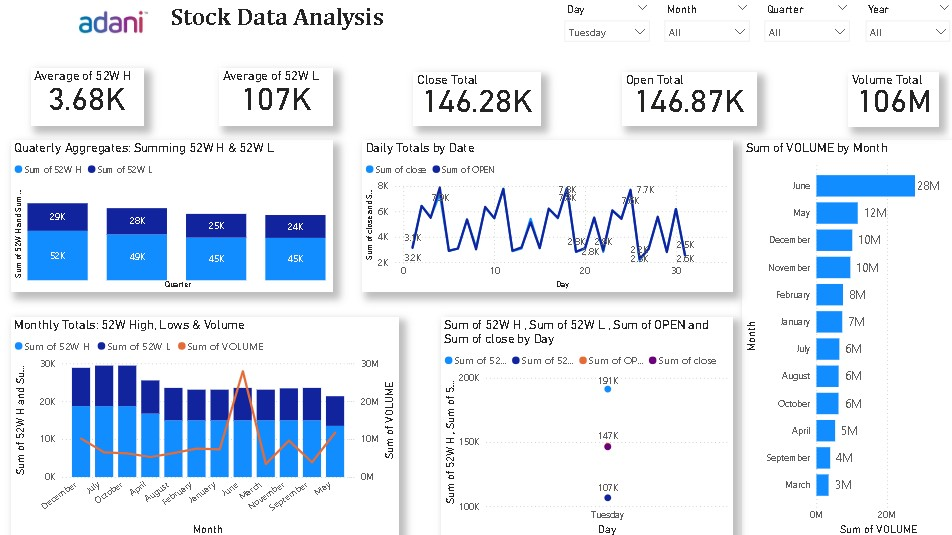

What the dashboard file says about the page in this screenshot:
{"tool":"powerbi","page":{"name":"Page 1","canvas":[1280,720],"ordinal":0},"visuals":[{"type":"slicer","fields":{"Values":["Quote-Equity-ADANIENT-EQ-01-04-2024-to-01-04-2025.Day"]},"box":[744.4,0,133.9,85.7],"z":0},{"type":"slicer","fields":{"Values":["Quote-Equity-ADANIENT-EQ-01-04-2024-to-01-04-2025.Month"]},"box":[878.3,0,133.9,85.7],"z":1000},{"type":"slicer","fields":{"Values":["Quote-Equity-ADANIENT-EQ-01-04-2024-to-01-04-2025.Quarter"]},"box":[1012.2,0,133.9,85.7],"z":2000},{"type":"slicer","fields":{"Values":["Quote-Equity-ADANIENT-EQ-01-04-2024-to-01-04-2025.Year"]},"box":[1146.1,0,133.9,85.7],"z":3000},{"type":"card","title":"Average of 52W H","fields":{"Values":["Avg(Quote-Equity-ADANIENT-EQ-01-04-2024-to-01-04-2025.52W H )"]},"box":[43.4,91.7,150.8,77.2],"z":4000},{"type":"card","title":"Average of 52W L","fields":{"Values":["Sum(Quote-Equity-ADANIENT-EQ-01-04-2024-to-01-04-2025.52W L )"]},"box":[294.4,91.7,152,77.2],"z":5000},{"type":"card","title":"Close Total","fields":{"Values":["Sum(Quote-Equity-ADANIENT-EQ-01-04-2024-to-01-04-2025.close )"]},"box":[553.8,96.5,170.1,72.4],"z":6000},{"type":"card","title":"Open Total","fields":{"Values":["Sum(Quote-Equity-ADANIENT-EQ-01-04-2024-to-01-04-2025.OPEN )"]},"box":[831.2,96.5,181,72.4],"z":7000},{"type":"card","title":"Volume Total","fields":{"Values":["Sum(Quote-Equity-ADANIENT-EQ-01-04-2024-to-01-04-2025.VOLUME)"]},"box":[1132.8,96.5,120.6,73.6],"z":8000},{"type":"columnChart","title":"Quaterly Aggregates: Summing 52W H & 52W L","fields":{"Y":["Sum(Quote-Equity-ADANIENT-EQ-01-04-2024-to-01-04-2025.52W H )","Sum(Quote-Equity-ADANIENT-EQ-01-04-2024-to-01-04-2025.52W L )"],"Category":["Quote-Equity-ADANIENT-EQ-01-04-2024-to-01-04-2025.Quarter"]},"box":[16.9,188.2,429.5,202.7],"z":9000},{"type":"lineStackedColumnComboChart","title":"Monthly Totals: 52W High, Lows & Volume","fields":{"Y":["Sum(Quote-Equity-ADANIENT-EQ-01-04-2024-to-01-04-2025.52W H )","Sum(Quote-Equity-ADANIENT-EQ-01-04-2024-to-01-04-2025.52W L )"],"Category":["Quote-Equity-ADANIENT-EQ-01-04-2024-to-01-04-2025.Month"],"Y2":["Sum(Quote-Equity-ADANIENT-EQ-01-04-2024-to-01-04-2025.VOLUME)"]},"box":[16.9,423.5,517.6,296.8],"z":10000},{"type":"lineChart","title":"Daily Totals by Date","fields":{"Category":["Quote-Equity-ADANIENT-EQ-01-04-2024-to-01-04-2025.Date .Variation.Date Hierarchy.Day"],"Y":["Sum(Quote-Equity-ADANIENT-EQ-01-04-2024-to-01-04-2025.close )","Sum(Quote-Equity-ADANIENT-EQ-01-04-2024-to-01-04-2025.OPEN )"]},"box":[485,188.2,494.6,202.7],"z":11000},{"type":"lineChart","fields":{"Y":["Sum(Quote-Equity-ADANIENT-EQ-01-04-2024-to-01-04-2025.52W H )","Sum(Quote-Equity-ADANIENT-EQ-01-04-2024-to-01-04-2025.52W L )","Sum(Quote-Equity-ADANIENT-EQ-01-04-2024-to-01-04-2025.OPEN )","Sum(Quote-Equity-ADANIENT-EQ-01-04-2024-to-01-04-2025.close )"],"Category":["Quote-Equity-ADANIENT-EQ-01-04-2024-to-01-04-2025.Day"]},"box":[589.9,423.5,389.7,296.8],"z":12000},{"type":"clusteredBarChart","fields":{"Category":["Quote-Equity-ADANIENT-EQ-01-04-2024-to-01-04-2025.Month"],"Y":["Sum(Quote-Equity-ADANIENT-EQ-01-04-2024-to-01-04-2025.VOLUME)"]},"box":[991.7,188.2,282.3,532],"z":13000},{"type":"textbox","box":[224.4,0,520,59.1],"z":14000},{"type":"image","box":[63.9,0,178.6,60.3],"z":15000}]}

Visuals, with their boxes in screenshot pixels (x1, y1, x2, y2), scaled from the page's 1280x720 canvas onto the 952x535 screenshot:
slicer - Quote-Equity-ADANIENT-EQ-01-04-2024-to-01-04-2025.Day: [x1=554, y1=0, x2=653, y2=64]
slicer - Quote-Equity-ADANIENT-EQ-01-04-2024-to-01-04-2025.Month: [x1=653, y1=0, x2=753, y2=64]
slicer - Quote-Equity-ADANIENT-EQ-01-04-2024-to-01-04-2025.Quarter: [x1=753, y1=0, x2=852, y2=64]
slicer - Quote-Equity-ADANIENT-EQ-01-04-2024-to-01-04-2025.Year: [x1=852, y1=0, x2=951, y2=64]
"Average of 52W H" card: [x1=32, y1=68, x2=144, y2=126]
"Average of 52W L" card: [x1=219, y1=68, x2=332, y2=126]
"Close Total" card: [x1=412, y1=72, x2=538, y2=126]
"Open Total" card: [x1=618, y1=72, x2=753, y2=126]
"Volume Total" card: [x1=843, y1=72, x2=932, y2=126]
"Quaterly Aggregates: Summing 52W H & 52W L" columnChart: [x1=13, y1=140, x2=332, y2=290]
"Monthly Totals: 52W High, Lows & Volume" lineStackedColumnComboChart: [x1=13, y1=315, x2=398, y2=534]
"Daily Totals by Date" lineChart: [x1=361, y1=140, x2=729, y2=290]
lineChart - Sum(Quote-Equity-ADANIENT-EQ-01-04-2024-to-01-04-2025.52W H ) x Sum(Quote-Equity-ADANIENT-EQ-01-04-2024-to-01-04-2025.52W L ): [x1=439, y1=315, x2=729, y2=534]
clusteredBarChart - Quote-Equity-ADANIENT-EQ-01-04-2024-to-01-04-2025.Month x Sum(Quote-Equity-ADANIENT-EQ-01-04-2024-to-01-04-2025.VOLUME): [x1=738, y1=140, x2=948, y2=534]
textbox: [x1=167, y1=0, x2=554, y2=44]
image: [x1=48, y1=0, x2=180, y2=45]
